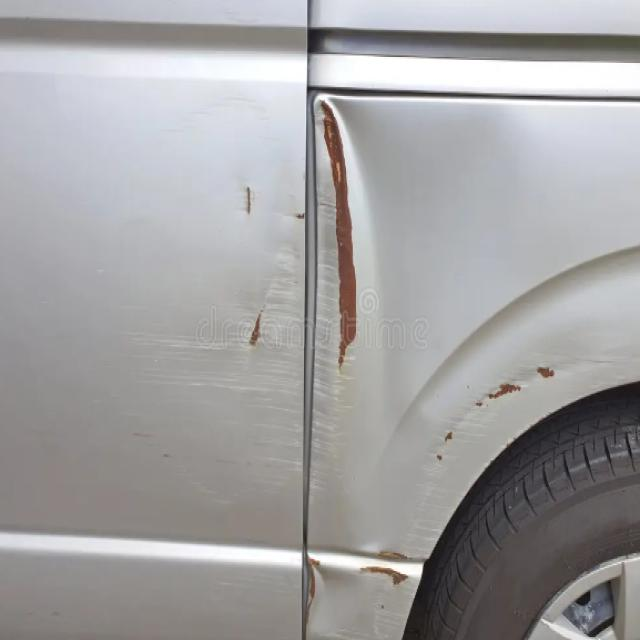scratch: (235, 92, 375, 514), (430, 348, 559, 482), (351, 541, 412, 589)
